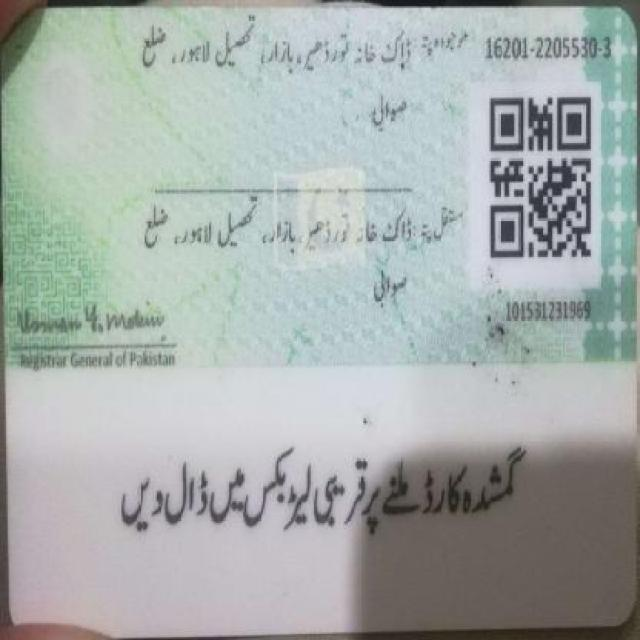Back: (9, 8, 628, 620)
